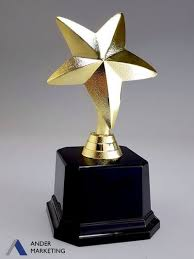trophy: (45, 10, 164, 246)
